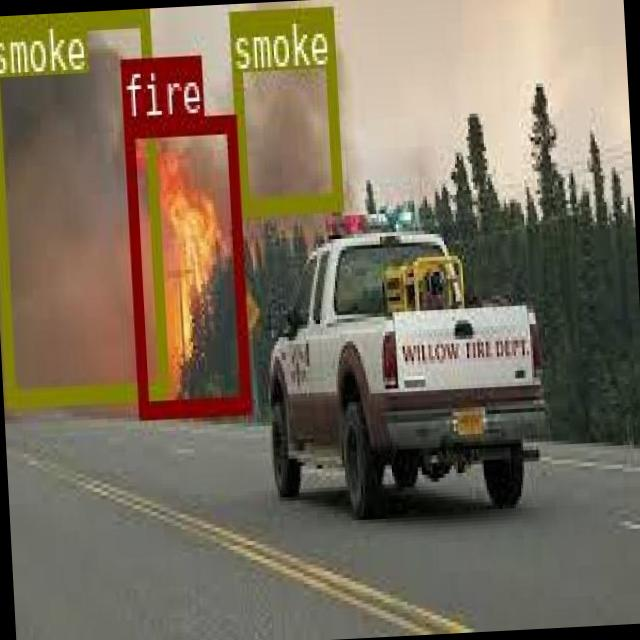fire: (122, 114, 248, 416)
smoke: (0, 8, 167, 404), (229, 4, 340, 210)
